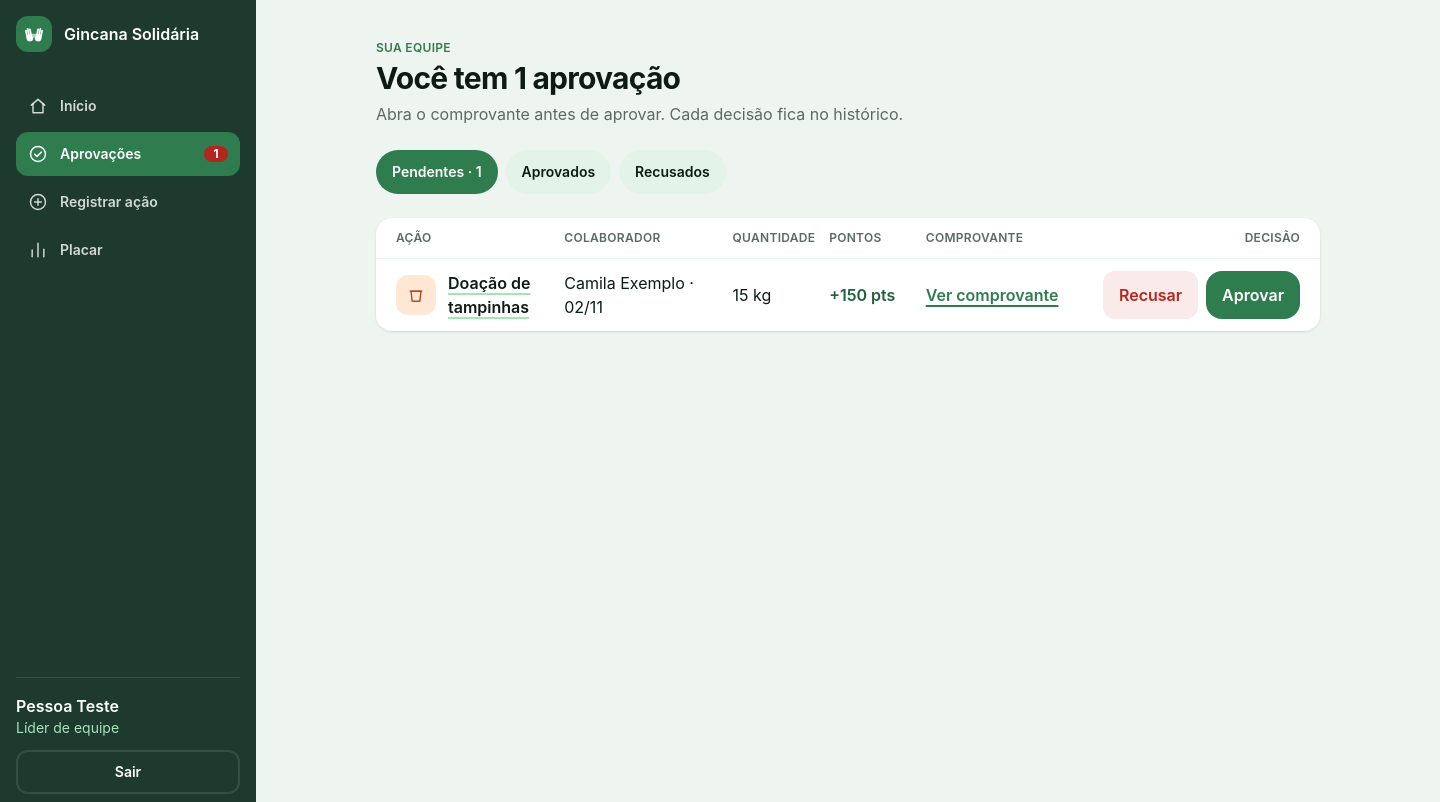
it: Detalhe do lançamento e histórico (US09) › quem chega e de onde › o líder abre pelo nome da ação, na fila de aprovações
Click the link with aria-label "Doação de tampinhas, ver detalhes e histórico" at (489, 294), box [448,272,530,316]
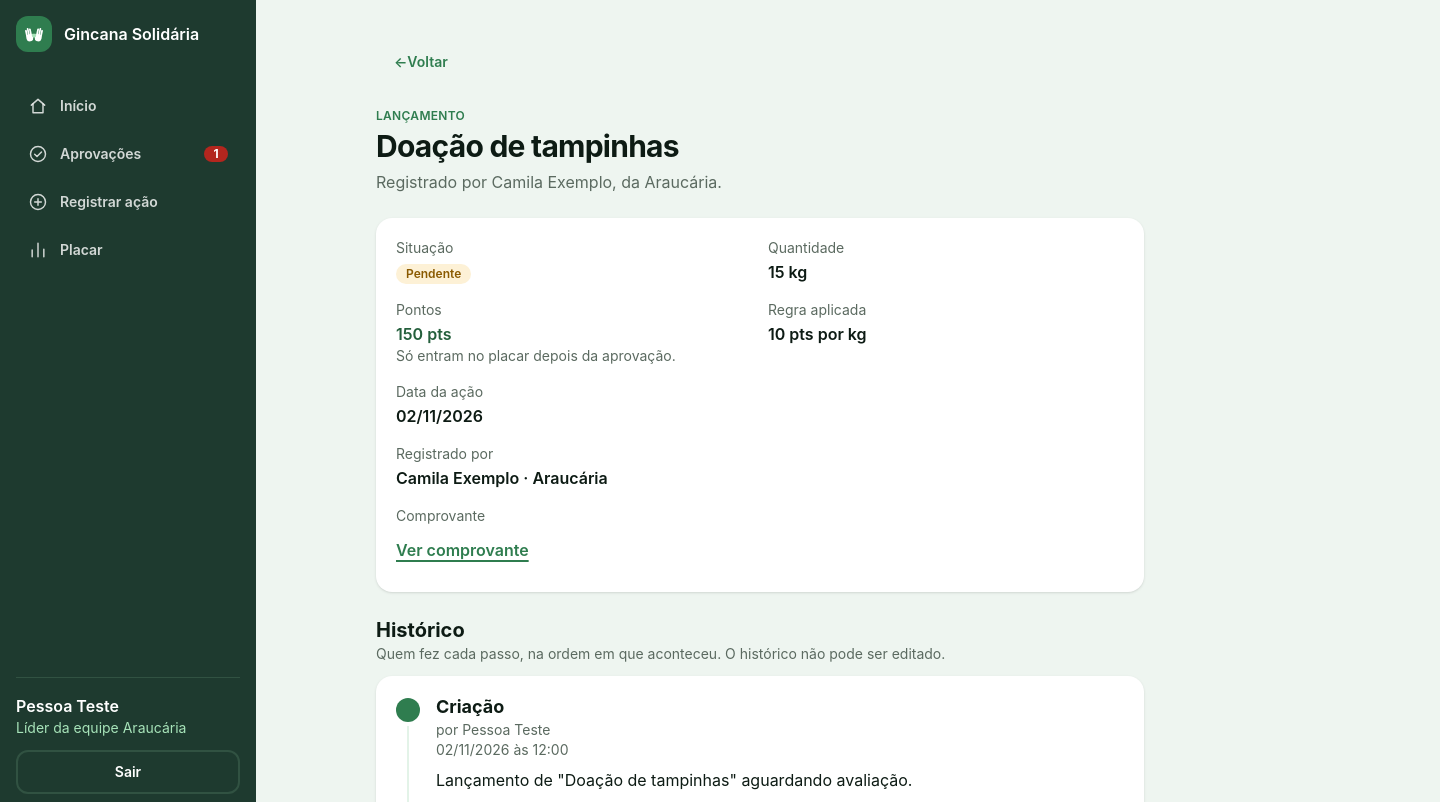
Now the heading "Doação de tampinhas" is shown, box [376,128,722,166]
